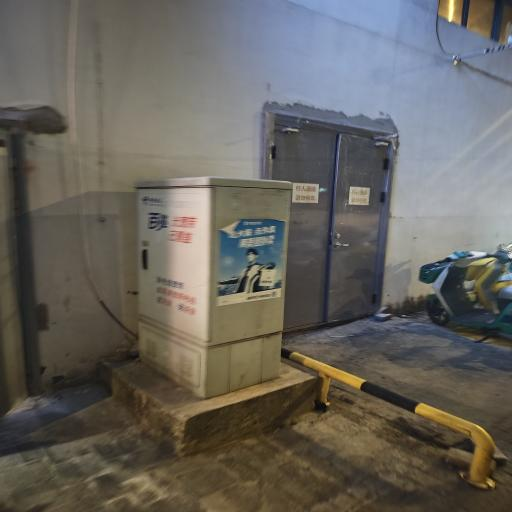car: (211, 127, 512, 408)
door: (111, 86, 410, 273)
